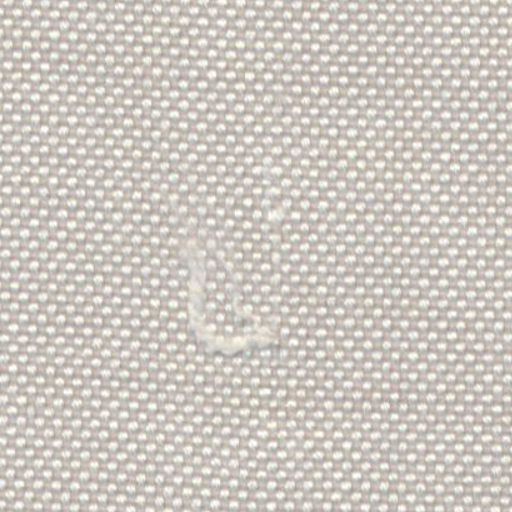DuanSha: (169, 215, 285, 366)
